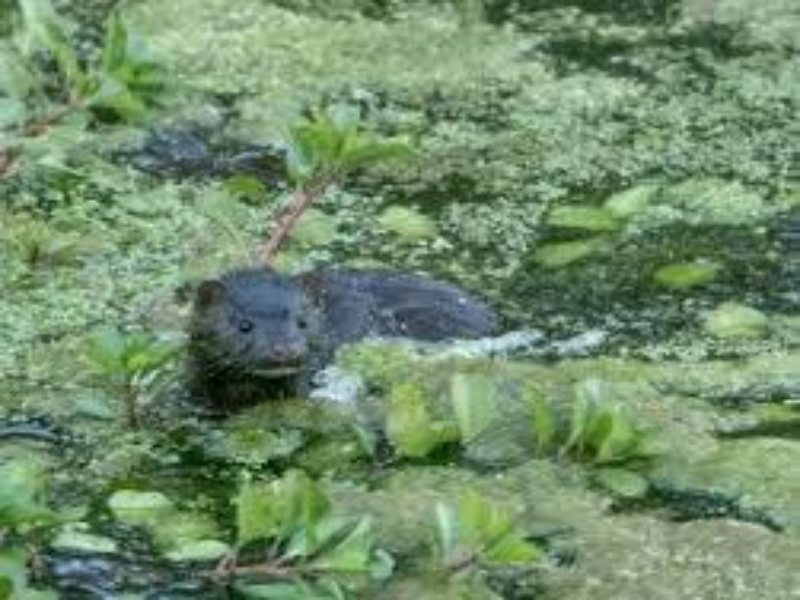minkish: (184, 263, 500, 404)
